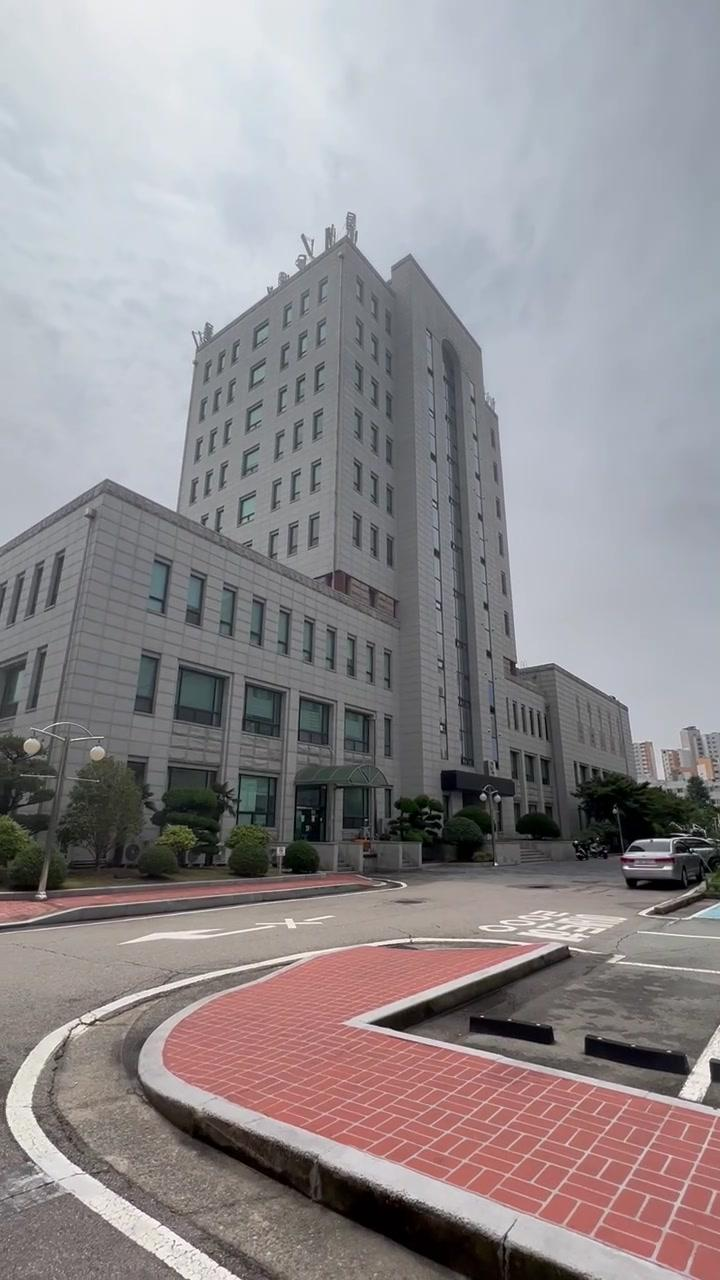building: (84, 220, 536, 752)
